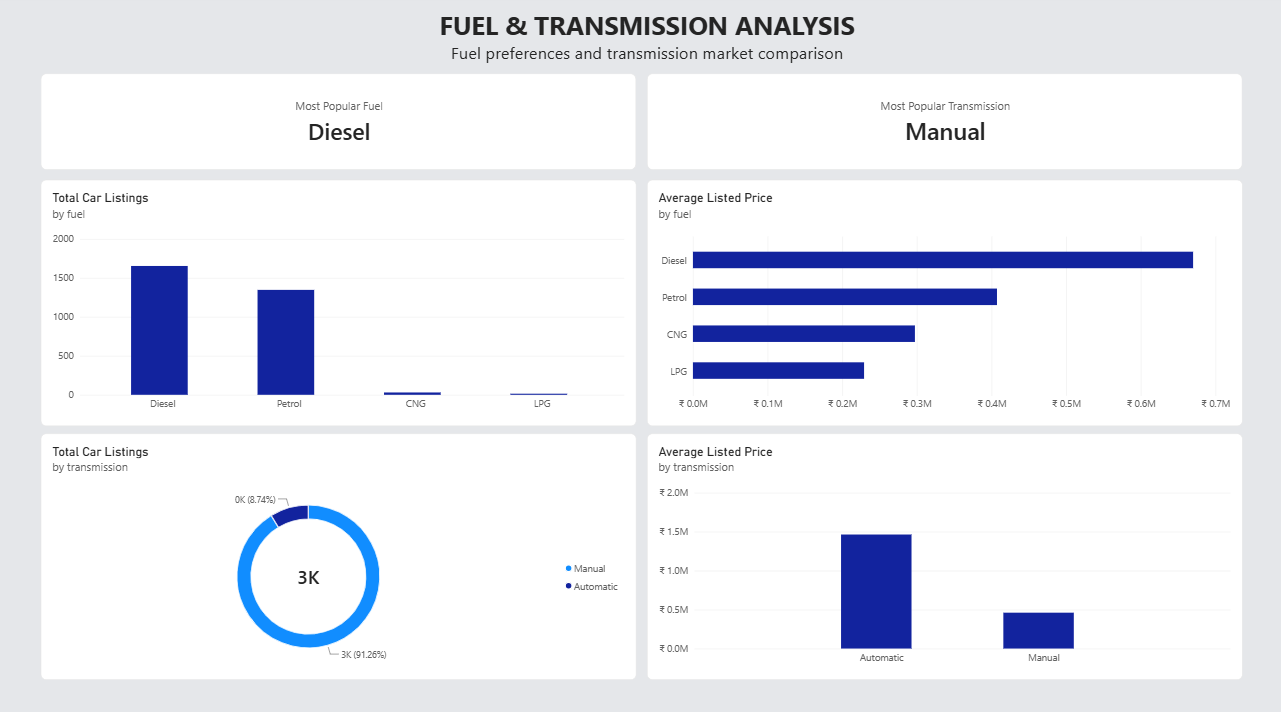

What the dashboard file says about the page in this screenshot:
{"tool":"powerbi","page":{"name":"Fuel & Transmission Analysis","canvas":[1920,1080],"ordinal":2},"visuals":[{"type":"textbox","box":[78,16,1764,96],"z":0},{"type":"cardVisual","fields":{"Data":["car_sales_db car_sales.Most Popular Fuel"]},"box":[78,112,866,140],"z":1000},{"type":"cardVisual","fields":{"Data":["car_sales_db car_sales.Most Popular Transmission"]},"box":[960,112,866,140],"z":2000},{"type":"clusteredColumnChart","fields":{"Category":["car_sales_db car_sales.fuel"],"Y":["car_sales_db car_sales.Total Car Listings"]},"box":[78,268,866,358],"z":3000},{"type":"clusteredBarChart","fields":{"Category":["car_sales_db car_sales.fuel"],"Y":["car_sales_db car_sales.Average Listed Price"]},"box":[960,268,866,358],"z":4000},{"type":"donutChart","fields":{"Category":["car_sales_db car_sales.transmission"],"Y":["car_sales_db car_sales.Total Car Listings"]},"box":[78,636,866,358],"z":5000},{"type":"clusteredColumnChart","fields":{"Category":["car_sales_db car_sales.transmission"],"Y":["car_sales_db car_sales.Average Listed Price"]},"box":[960,636,866,358],"z":6000}]}

Visuals, with their boxes in screenshot pixels (x1, y1, x2, y2), scaled from the page's 1920x1080 canvas onto the 1281x712 screenshot:
textbox: 52, 11, 1229, 74
cardVisual - car_sales_db car_sales.Most Popular Fuel: 52, 74, 630, 166
cardVisual - car_sales_db car_sales.Most Popular Transmission: 640, 74, 1218, 166
clusteredColumnChart - car_sales_db car_sales.fuel x car_sales_db car_sales.Total Car Listings: 52, 177, 630, 413
clusteredBarChart - car_sales_db car_sales.fuel x car_sales_db car_sales.Average Listed Price: 640, 177, 1218, 413
donutChart - car_sales_db car_sales.transmission x car_sales_db car_sales.Total Car Listings: 52, 419, 630, 655
clusteredColumnChart - car_sales_db car_sales.transmission x car_sales_db car_sales.Average Listed Price: 640, 419, 1218, 655
